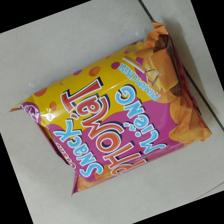Oishi_phomat: (11, 20, 211, 201)
